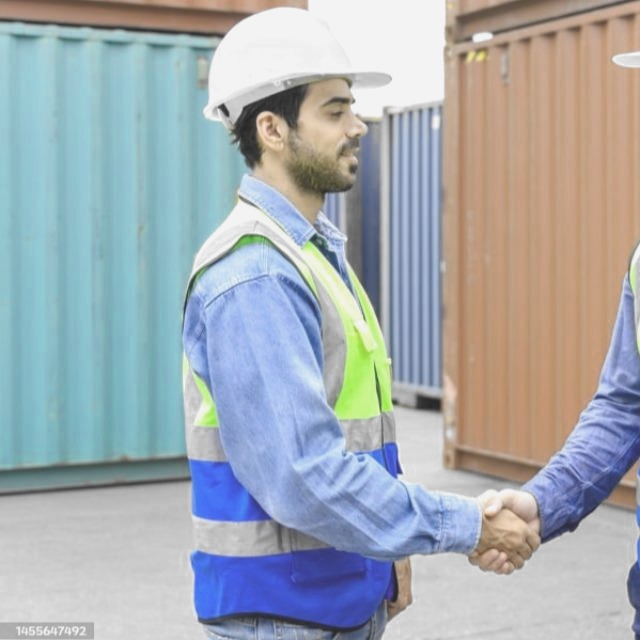Con_Casco: (203, 10, 393, 193)
Con_Chaleco: (175, 205, 405, 621)
